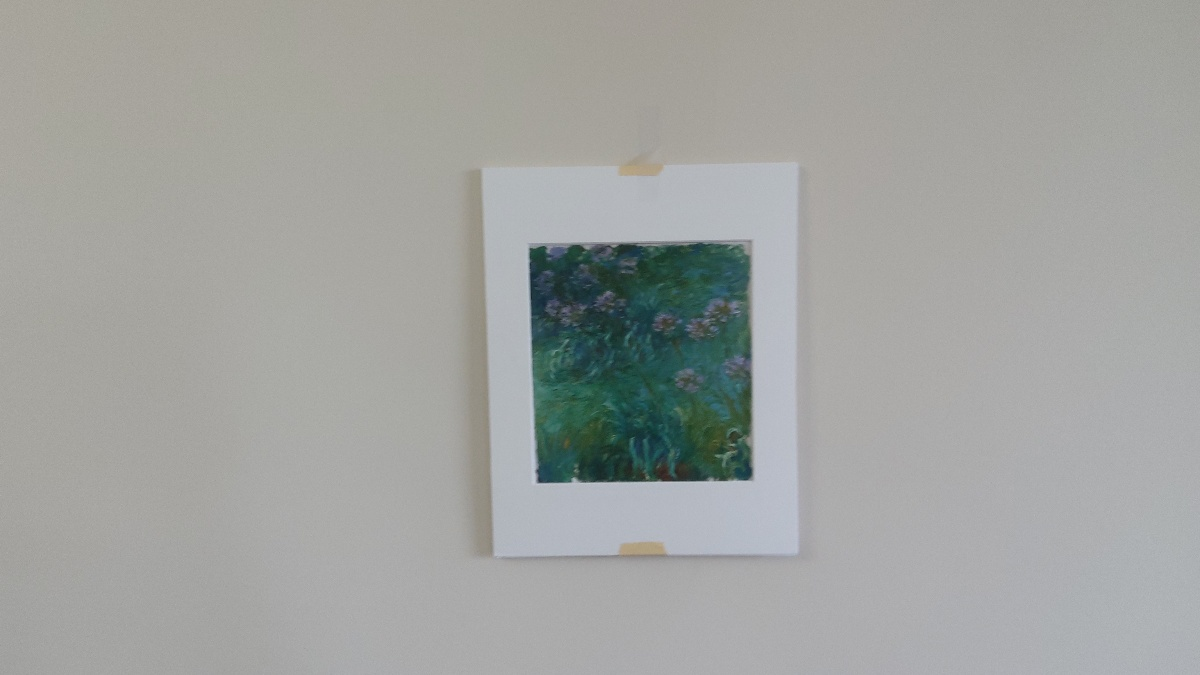painting: (521, 234, 763, 491)
